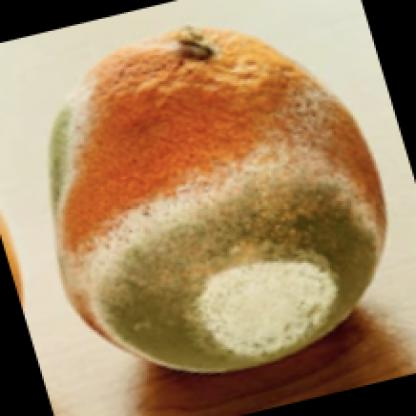rotten_orange: (13, 24, 394, 378)
